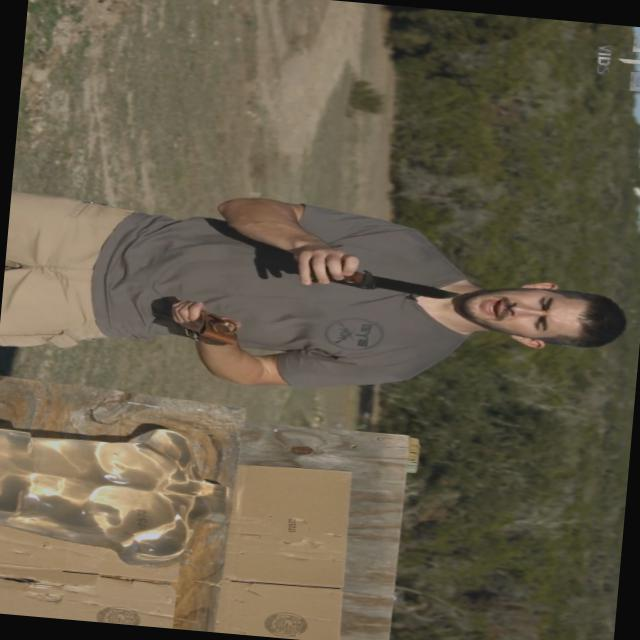knife: (294, 244, 476, 309)
